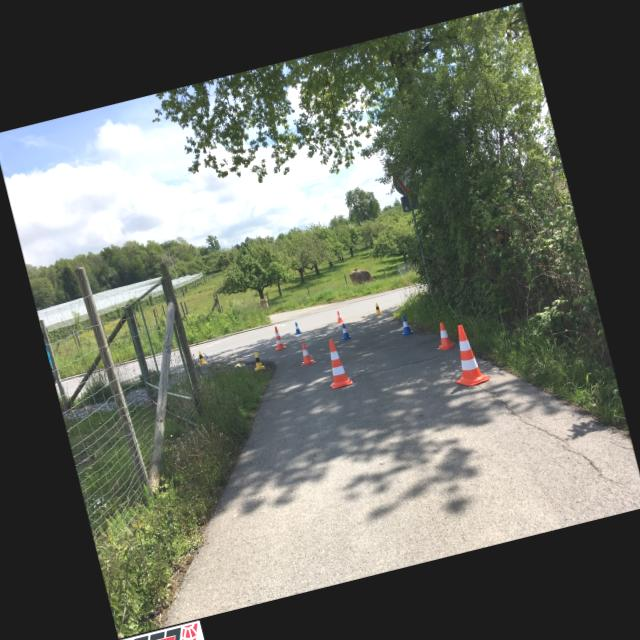blue_cone: (396, 313, 414, 336), (338, 322, 352, 341), (292, 321, 301, 334)
large_orange_cone: (442, 321, 489, 389), (319, 336, 353, 389), (270, 324, 286, 350)
orange_cone: (431, 319, 458, 352), (296, 342, 316, 366), (334, 310, 343, 323)
yellow_cone: (250, 351, 264, 371), (195, 349, 207, 366), (372, 302, 382, 315)
